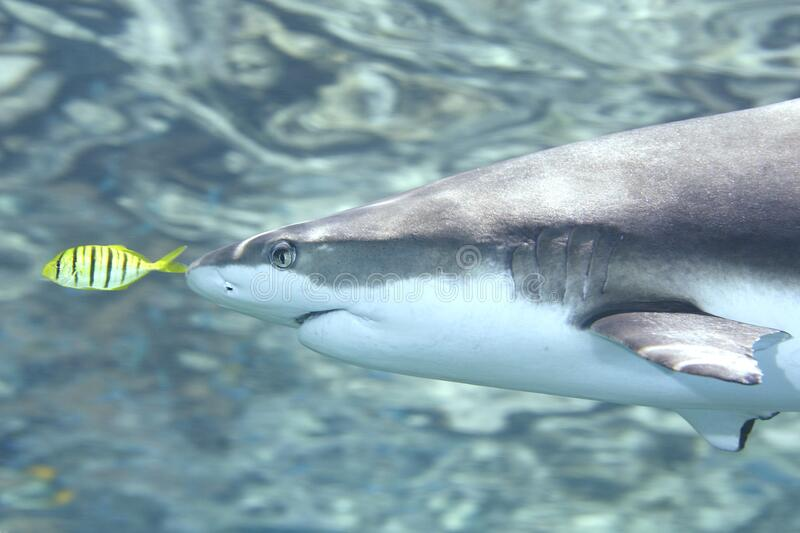shark: (185, 89, 800, 474)
